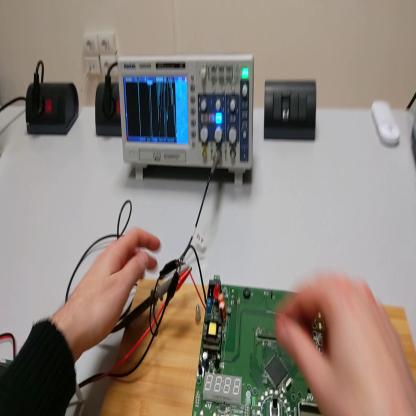hand: (275, 274, 416, 414), (68, 228, 161, 353)
low voltage board: (185, 245, 328, 416)
oscilloscope: (117, 52, 256, 187)
oscilloscope probe tip: (116, 271, 179, 329)
socket: (26, 78, 81, 138), (94, 79, 123, 138)
working area: (105, 280, 416, 414)
